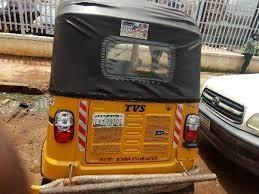keke: (38, 0, 202, 194)
